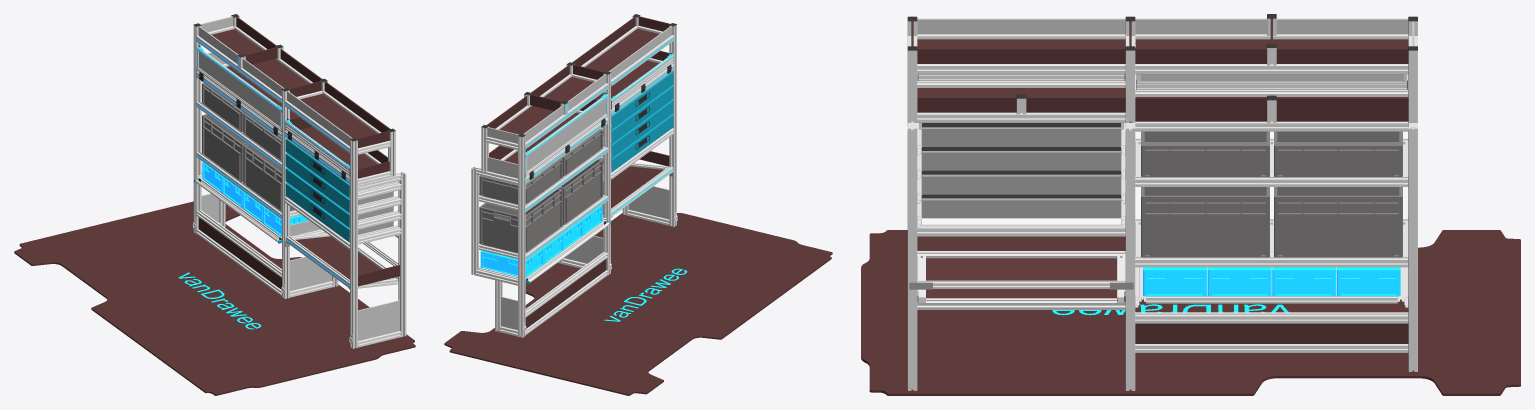
The model's file is vd_export_fiat_ducato_l2h2_3450_mm_e2111b56.glb.
The picture shows the model from 3 angles, left to right: view 1: azimuth 30°, elevation 25°; view 2: azimuth 150°, elevation 25°; view 3: azimuth 270°, elevation 25°; orthographic projection. The views are drawn at different scales.
Parts seen in each view (by area): view 1: SomeName_Mesh_0006_2, 45x45x1700_noha (×3), drawer (×4), PR10_1266x306 (×3), CUB10_395x260 (×2), blue_klt (×2), box6432_3, box6432_2, 45x45x1267_Zx2_2 (×3), 45x45x369_Zx2_2 (×4), PR10_908x388, CUB6_1226x145 (+24 smaller); view 2: SomeName_Mesh_0006_2, 45x45x1700_noha (×3), drawer (×4), box6432_3, PR10_1266x306 (×3), blue_klt (×2), box6432_2, box6417, CUB10_395x260 (×2), 45x45x1267_Zx2_2 (×3), SL_40x40_1267_Zx2 (×2), CUB6_1226x145 (+24 smaller); view 3: SomeName_Mesh_0006_2, Suplikocel1001057459 (×4), box6432_2, box6432_3, 45x45x1267_Zx2 (×3), blue_klt, 45x45x1267_Zx2_2 (×4), PR10_1266x306 (×3), PR10_908x388, box6417, box6417_2, SL_40x40_1267_Zx2_2 (×2) (+28 smaller).
Part boxes in pixels (x1=…): SomeName_Mesh_0006_2: x1=14, y1=201, x2=415, y2=395; 45x45x1700_noha (×3): x1=193, y1=25, x2=357, y2=348; drawer (×4): x1=285, y1=138, x2=349, y2=242; PR10_1266x306 (×3): x1=212, y1=29, x2=376, y2=168; CUB10_395x260 (×2): x1=290, y1=256, x2=399, y2=340; blue_klt (×2): x1=196, y1=46, x2=308, y2=236; box6432_3: x1=202, y1=114, x2=247, y2=182; box6432_2: x1=243, y1=144, x2=294, y2=211; 45x45x1267_Zx2_2 (×3): x1=196, y1=35, x2=349, y2=153; 45x45x369_Zx2_2 (×4): x1=358, y1=182, x2=401, y2=244; PR10_908x388: x1=296, y1=236, x2=380, y2=279; CUB6_1226x145: x1=199, y1=52, x2=280, y2=126; SomeName_Mesh_0006_2: x1=444, y1=213, x2=832, y2=395; 45x45x1700_noha (×3): x1=518, y1=25, x2=676, y2=337; drawer (×4): x1=611, y1=72, x2=673, y2=172; box6432_3: x1=479, y1=188, x2=562, y2=252; PR10_1266x306 (×3): x1=499, y1=28, x2=659, y2=134; blue_klt (×2): x1=480, y1=93, x2=608, y2=277; box6432_2: x1=558, y1=159, x2=602, y2=224; box6417: x1=479, y1=158, x2=562, y2=204; CUB10_395x260 (×2): x1=564, y1=186, x2=669, y2=263; 45x45x1267_Zx2_2 (×3): x1=525, y1=35, x2=674, y2=183; SL_40x40_1267_Zx2 (×2): x1=525, y1=146, x2=607, y2=260; CUB6_1226x145: x1=527, y1=99, x2=605, y2=171; SomeName_Mesh_0006_2: x1=861, y1=230, x2=1520, y2=395; Suplikocel1001057459 (×4): x1=919, y1=123, x2=1123, y2=218; box6432_2: x1=1141, y1=187, x2=1269, y2=257; box6432_3: x1=1274, y1=187, x2=1402, y2=257; 45x45x1267_Zx2 (×3): x1=917, y1=64, x2=1408, y2=131; blue_klt: x1=1143, y1=267, x2=1400, y2=296; 45x45x1267_Zx2_2 (×4): x1=917, y1=34, x2=1408, y2=236; PR10_1266x306 (×3): x1=917, y1=39, x2=1408, y2=96; PR10_908x388: x1=926, y1=258, x2=1116, y2=298; box6417: x1=1274, y1=131, x2=1402, y2=176; box6417_2: x1=1141, y1=131, x2=1269, y2=176; SL_40x40_1267_Zx2_2 (×2): x1=1135, y1=176, x2=1408, y2=267.
Bounding box in the file's own units: 1798 × 1734 × 3062.
